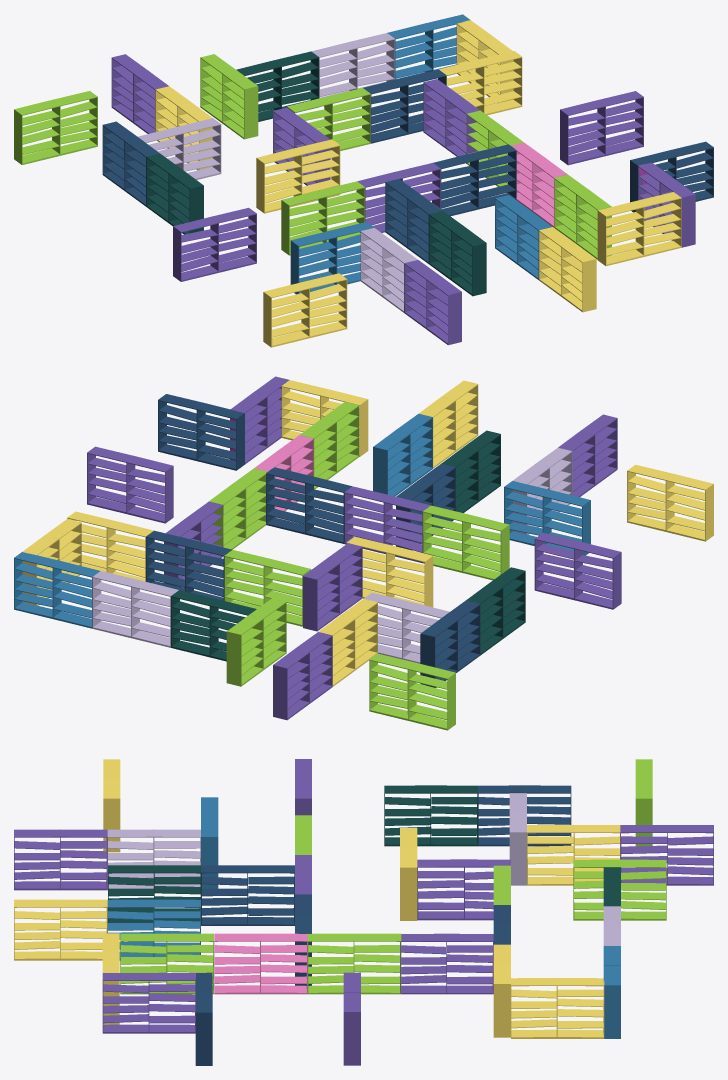
The model's file is Kindergarten labyrinth.fbx.
3 renders of one model, top to bottom at view 1: azimuth 30°, elevation 25°; view 2: azimuth 150°, elevation 25°; view 3: azimuth 270°, elevation 25°, orthographic. The views are drawn at different scales.
Parts seen in each view (by area): view 1: Labyrinth kindergarden.009, Labyrinth kindergarden.008, Labyrinth kindergarden.030, Labyrinth kindergarden.014, Labyrinth kindergarden.019, Labyrinth kindergarden.024, Labyrinth kindergarden.016, Labyrinth kindergarden.015, Labyrinth kindergarden.031, Labyrinth kindergarden.033, Labyrinth kindergarden.001, Labyrinth kindergarden.002 (+24 smaller); view 2: Labyrinth kindergarden.014, Labyrinth kindergarden.008, Labyrinth kindergarden.030, Labyrinth kindergarden.011, Labyrinth kindergarden.019, Labyrinth kindergarden.015, Labyrinth kindergarden.033, Labyrinth kindergarden.016, Labyrinth kindergarden.034, Labyrinth kindergarden.007, Labyrinth kindergarden.021, Labyrinth kindergarden.031 (+24 smaller); view 3: Labyrinth kindergarden.006, Labyrinth kindergarden.013, Labyrinth kindergarden.018, Labyrinth kindergarden.004, Labyrinth kindergarden.010, Labyrinth kindergarden.035, Labyrinth kindergarden.001, Labyrinth kindergarden.017, Labyrinth kindergarden.025, Labyrinth kindergarden.029, Labyrinth kindergarden.023, Labyrinth kindergarden.031 (+24 smaller).
Part boxes in pixels (<box>): Labyrinth kindergarden.009: <box>597,192,681,266</box>; Labyrinth kindergarden.008: <box>263,273,347,347</box>; Labyrinth kindergarden.030: <box>14,91,97,164</box>; Labyrinth kindergarden.014: <box>173,207,256,281</box>; Labyrinth kindergarden.019: <box>560,91,643,165</box>; Labyrinth kindergarden.024: <box>256,139,340,213</box>; Labyrinth kindergarden.016: <box>433,144,516,216</box>; Labyrinth kindergarden.015: <box>281,181,364,255</box>; Labyrinth kindergarden.031: <box>200,54,258,139</box>; Labyrinth kindergarden.033: <box>311,33,394,106</box>; Labyrinth kindergarden.001: <box>539,227,596,312</box>; Labyrinth kindergarden.002: <box>429,211,486,296</box>; Labyrinth kindergarden.014: <box>534,533,621,609</box>; Labyrinth kindergarden.008: <box>627,464,713,541</box>; Labyrinth kindergarden.030: <box>369,653,455,730</box>; Labyrinth kindergarden.011: <box>158,394,244,470</box>; Labyrinth kindergarden.019: <box>87,446,173,523</box>; Labyrinth kindergarden.015: <box>422,505,509,580</box>; Labyrinth kindergarden.033: <box>92,571,178,647</box>; Labyrinth kindergarden.016: <box>266,467,351,543</box>; Labyrinth kindergarden.034: <box>14,552,99,628</box>; Labyrinth kindergarden.007: <box>504,481,590,555</box>; Labyrinth kindergarden.021: <box>146,530,232,600</box>; Labyrinth kindergarden.031: <box>226,598,286,686</box>; Labyrinth kindergarden.006: <box>14,829,107,890</box>; Labyrinth kindergarden.013: <box>214,933,307,994</box>; Labyrinth kindergarden.018: <box>400,933,493,994</box>; Labyrinth kindergarden.004: <box>201,865,294,925</box>; Labyrinth kindergarden.010: <box>102,973,195,1033</box>; Labyrinth kindergarden.035: <box>511,978,604,1038</box>; Labyrinth kindergarden.001: <box>14,899,107,960</box>; Labyrinth kindergarden.017: <box>307,933,401,994</box>; Labyrinth kindergarden.025: <box>384,785,477,846</box>; Labyrinth kindergarden.029: <box>620,825,713,885</box>; Labyrinth kindergarden.023: <box>417,859,510,920</box>; Labyrinth kindergarden.031: <box>573,859,666,920</box>.
Size of the model in its own units: 4930 by 498 by 5754.
Materials: 1 (1 with a texture image).
